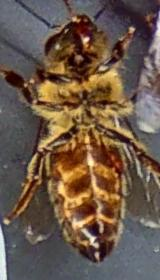varroa_mite: (95, 140, 142, 176)
